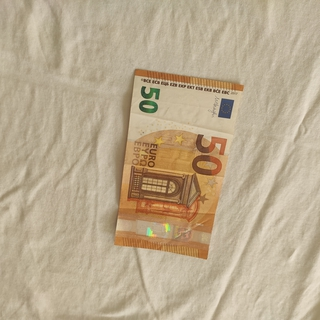50EUROFront: (112, 67, 244, 261)
